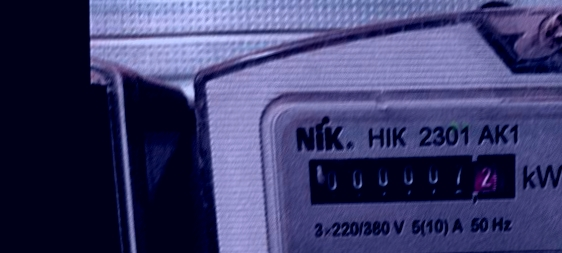0: (324, 167, 338, 191), (401, 163, 415, 186), (376, 164, 389, 187), (426, 162, 439, 185), (350, 167, 363, 189)
2: (479, 165, 492, 188)
7: (452, 161, 464, 185)
screen: (298, 143, 526, 213)
